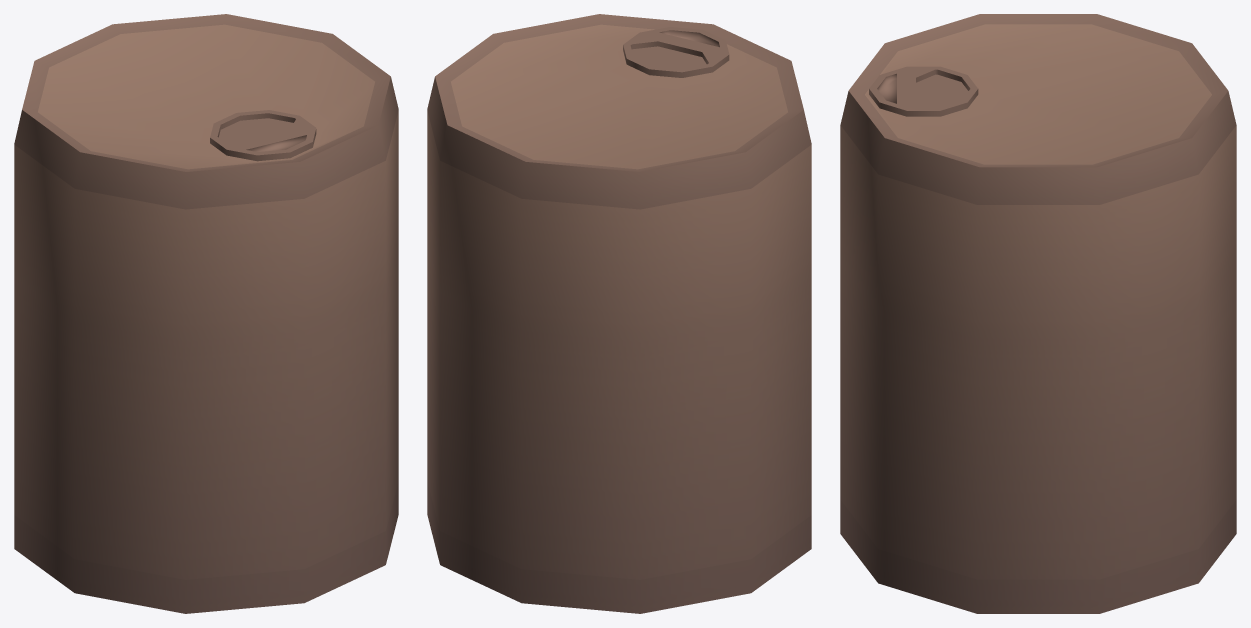
Rendered from can_food_brown.fbx.
3 renders of one model, left to right at view 1: azimuth 30°, elevation 25°; view 2: azimuth 150°, elevation 25°; view 3: azimuth 270°, elevation 25°, orthographic.
Visible parts, largest first — view 1: can_food_brown; view 2: can_food_brown; view 3: can_food_brown.
Boxes of the visible parts, <box> form: can_food_brown: <box>14,14,398,613</box>; can_food_brown: <box>427,14,811,613</box>; can_food_brown: <box>840,14,1236,613</box>.
Size of the model in its own units: 104 by 135 by 109.
